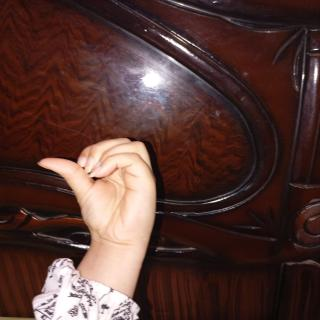WAW: (28, 132, 202, 272)
